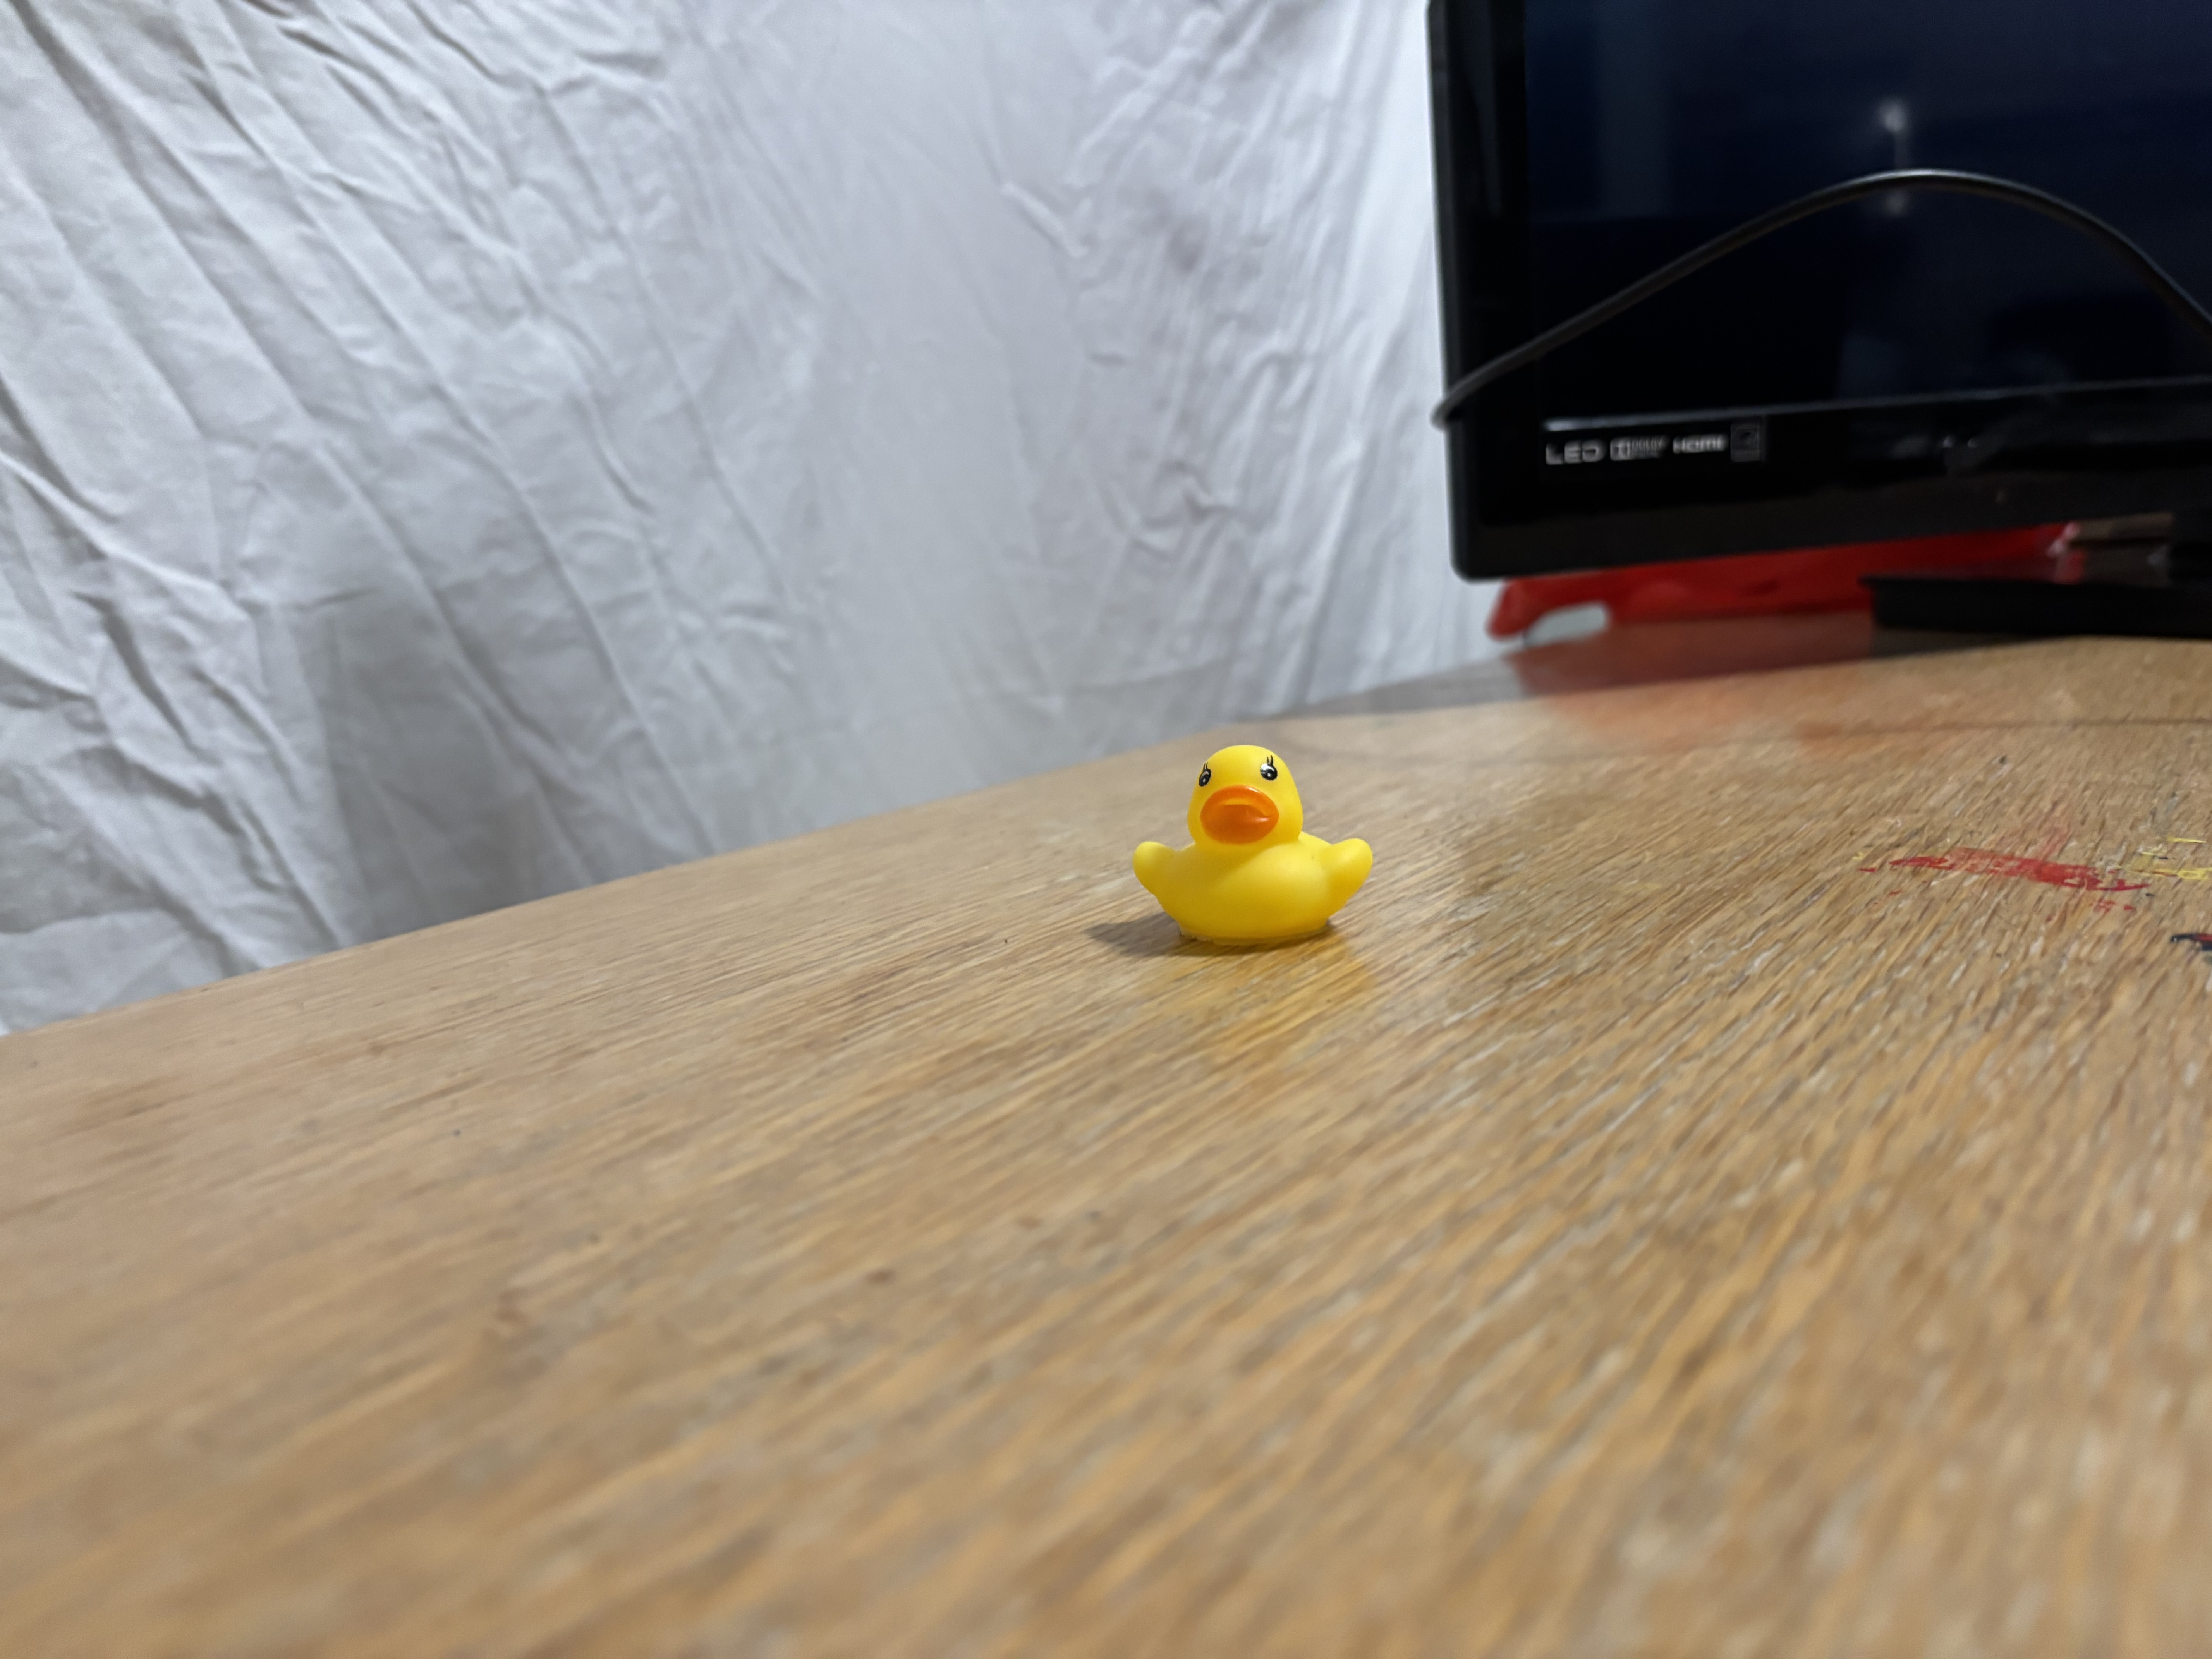duck_regular: (1125, 735, 1379, 955)
